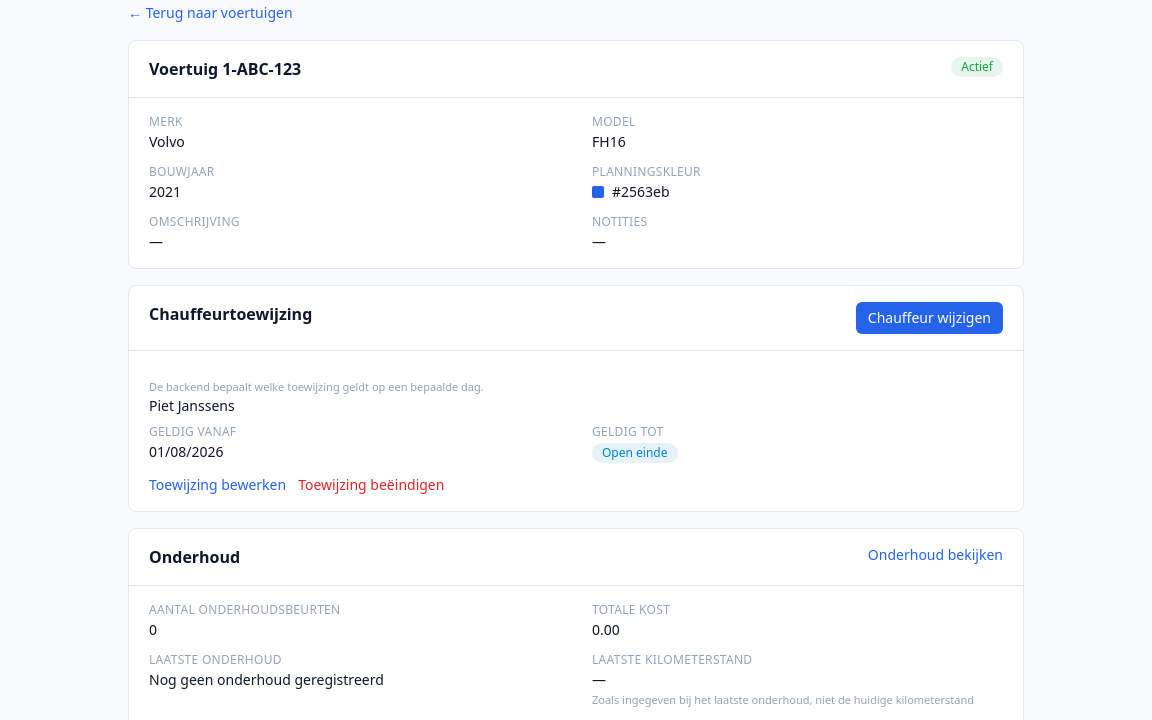
Test: changing the chauffeur of a vehicle › the change dialog › names the chauffeur being replaced
What coordinates should you click on to do the following:
click the button "Chauffeur wijzigen"
I would click on:
 (929, 318)
Its box is [856,302,1003,334].
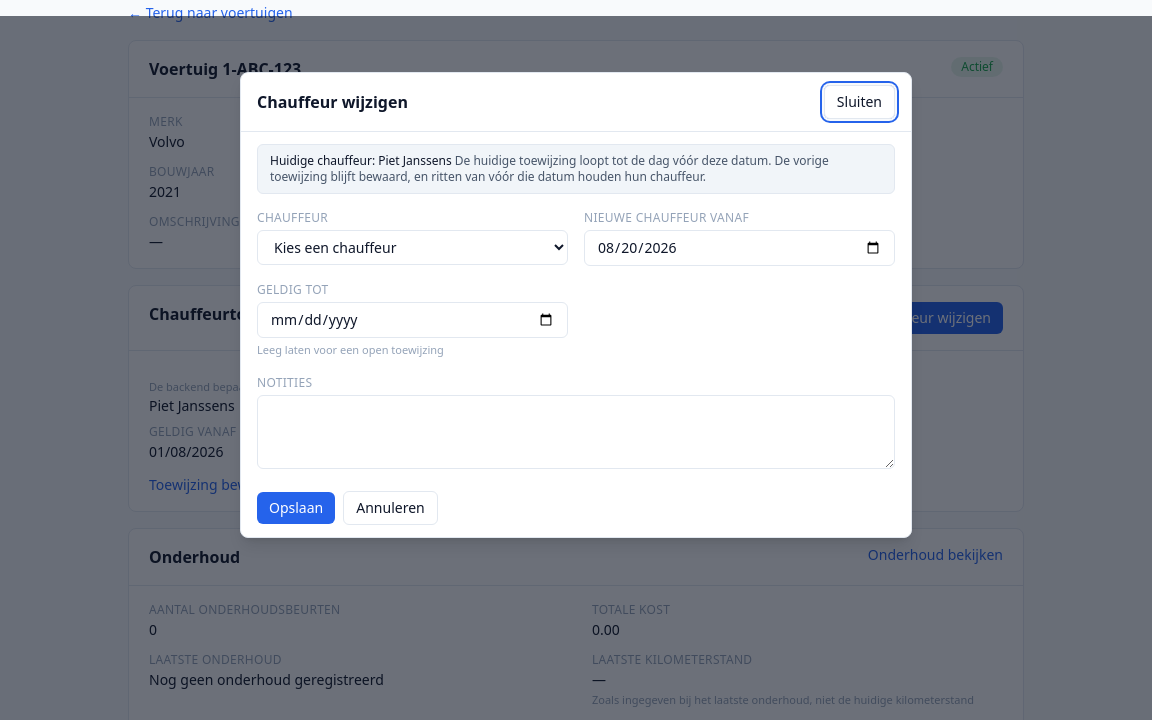
Expected: the text "Huidige chauffeur: Piet Janssens" is shown, [270,152,452,169]
